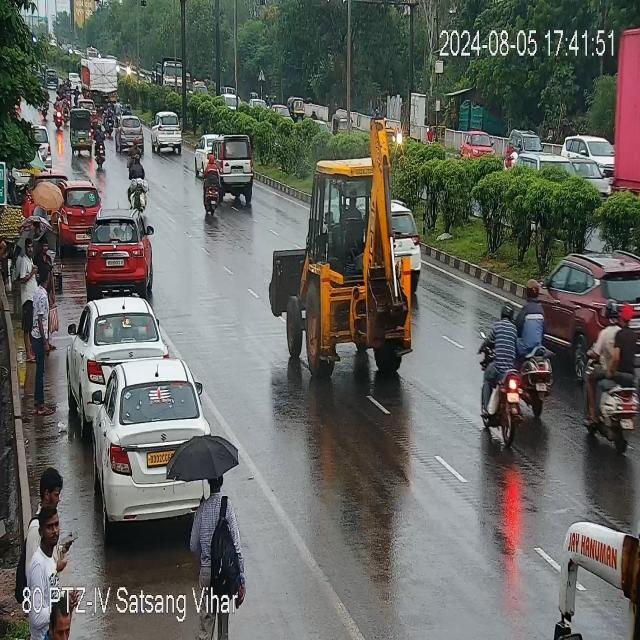2-wheelers: (470, 280, 554, 444), (124, 154, 158, 213), (95, 102, 117, 164), (202, 161, 224, 216), (55, 75, 70, 129), (502, 136, 516, 170)
auto: (68, 105, 94, 159)
bus: (551, 499, 639, 638)
car: (91, 358, 211, 522), (70, 301, 164, 411), (527, 248, 636, 334), (578, 301, 636, 437), (87, 219, 161, 298), (195, 131, 253, 201), (560, 132, 615, 194), (55, 180, 97, 248), (149, 112, 186, 154), (116, 116, 148, 153), (464, 130, 494, 161), (36, 125, 52, 172)
pedestrian: (165, 434, 237, 526), (19, 239, 56, 342), (36, 257, 55, 418), (39, 463, 72, 547), (26, 178, 57, 246)
truck: (271, 117, 415, 378), (618, 19, 640, 200), (78, 54, 119, 103), (156, 60, 188, 96)
